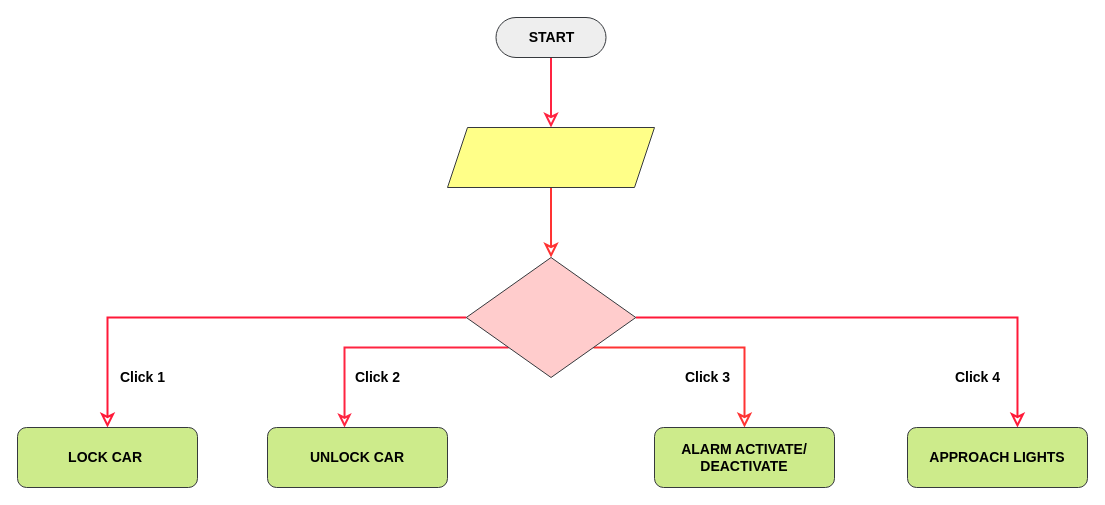
Image size: 1105x505. Some labels were removed from this diagram. Each missing label, with the centre of its shape:
"No of times key Pressed" belongs at (550,317).
"USER KEYS" belongs at (550,157).
